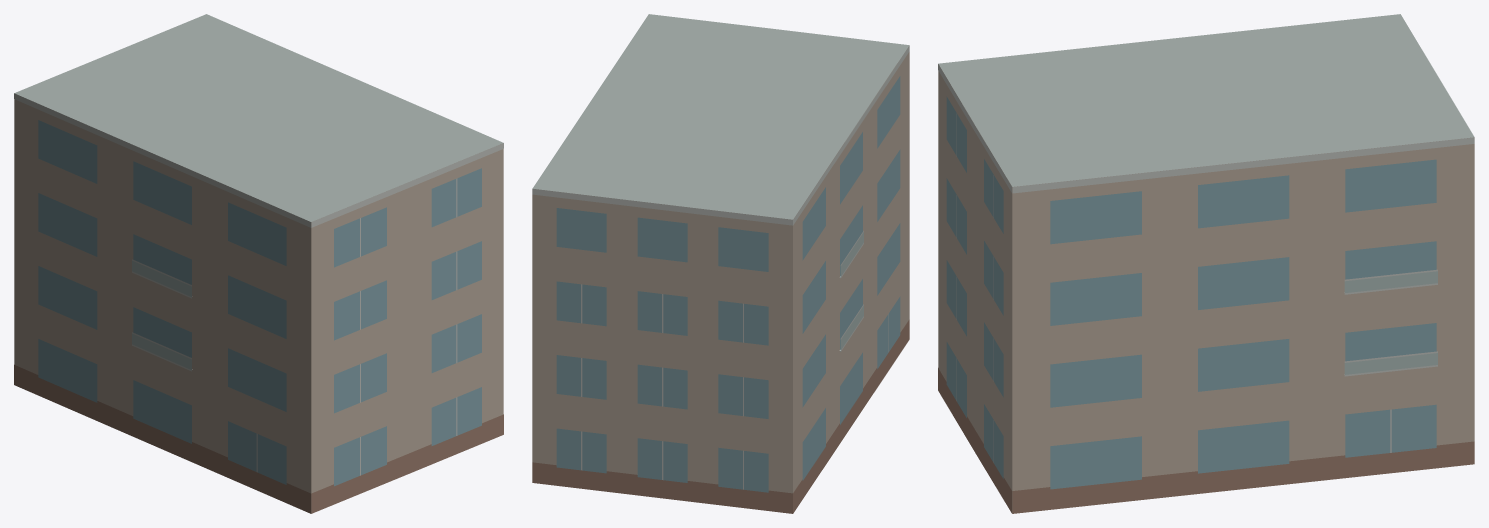
The model's file is residential-50624c72-d5f1-4468-9b1f-f4e39fd38a49.glb.
The picture shows the model from 3 angles, left to right: view 1: azimuth 30°, elevation 25°; view 2: azimuth 150°, elevation 25°; view 3: azimuth 270°, elevation 25°; orthographic projection. The views are drawn at different scales.
Parts seen in each view (by area): view 1: residential-50624c72-d5f1-4468-9b1f-f4e39fd38a49.tmp; view 2: residential-50624c72-d5f1-4468-9b1f-f4e39fd38a49.tmp; view 3: residential-50624c72-d5f1-4468-9b1f-f4e39fd38a49.tmp.
Part boxes in pixels (bbox=[...]): residential-50624c72-d5f1-4468-9b1f-f4e39fd38a49.tmp: bbox=[14, 14, 503, 513]; residential-50624c72-d5f1-4468-9b1f-f4e39fd38a49.tmp: bbox=[532, 14, 909, 513]; residential-50624c72-d5f1-4468-9b1f-f4e39fd38a49.tmp: bbox=[938, 14, 1474, 513].
Bounding box in the file's own units: 13.85 × 12.2 × 18.16.
